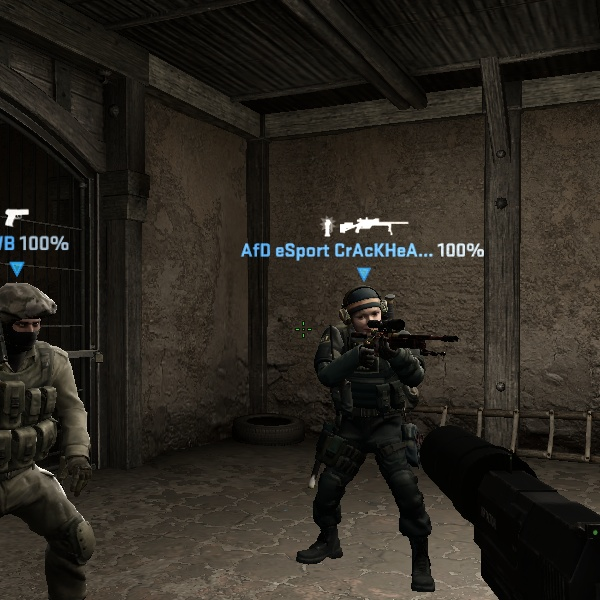ct_body: (291, 282, 454, 577), (4, 274, 120, 582)
ct_head: (1, 273, 77, 353), (334, 282, 400, 344)
